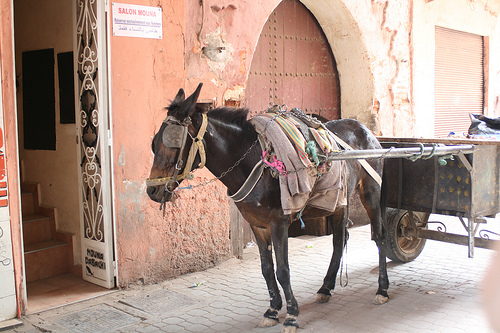horse: (146, 81, 391, 326)
